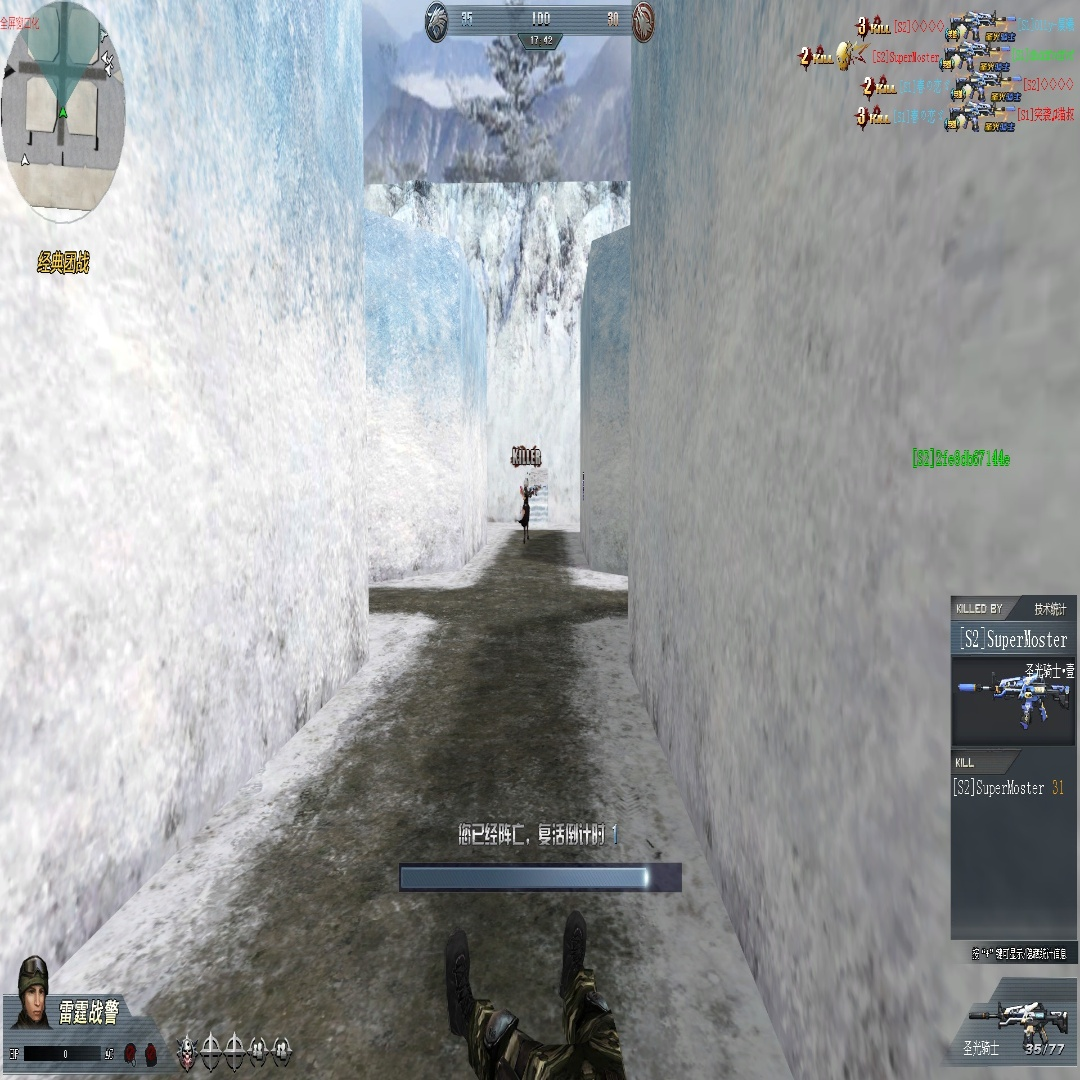t: (519, 479, 533, 539)
